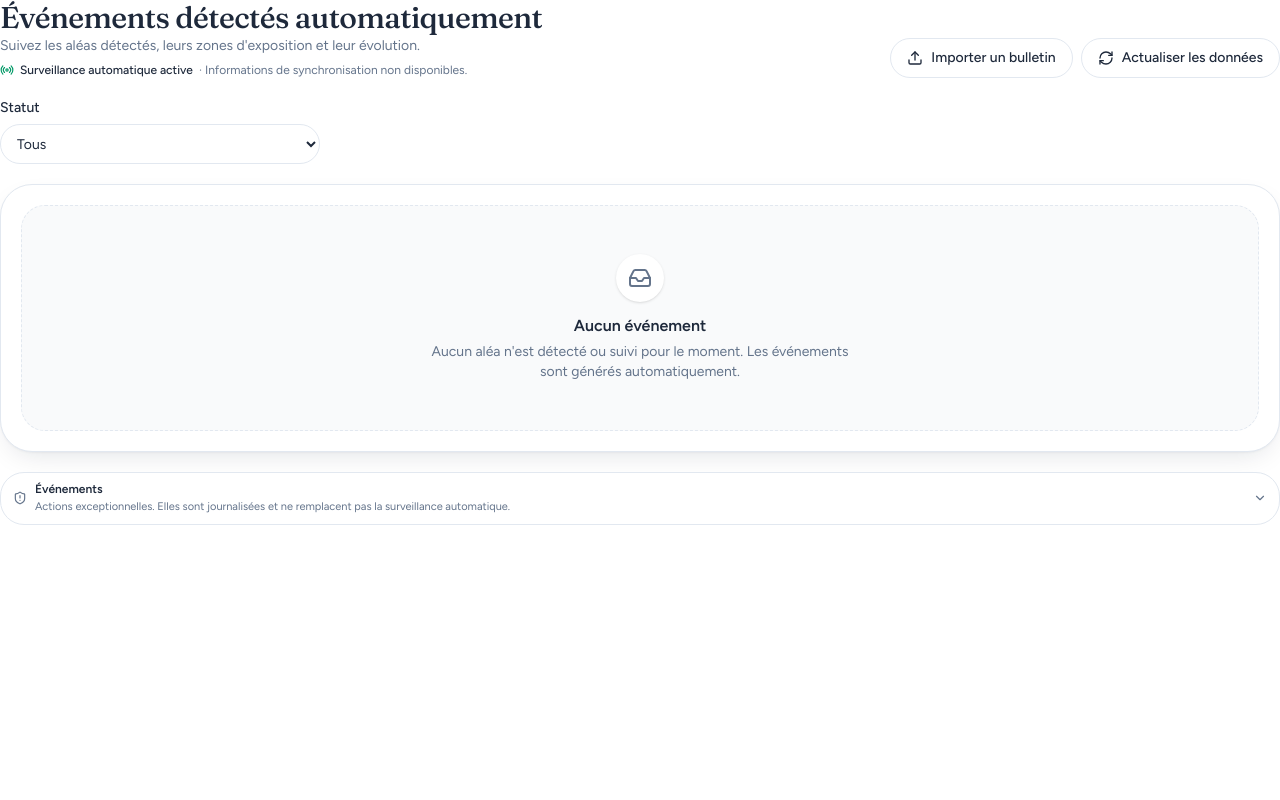
Test: EvenementsPage — import d’un bulletin d’événement › ouvre la modale d’import depuis la page Événements
Click the button "Importer un bulletin" at coordinates (981, 58), box [890,38,1073,78]
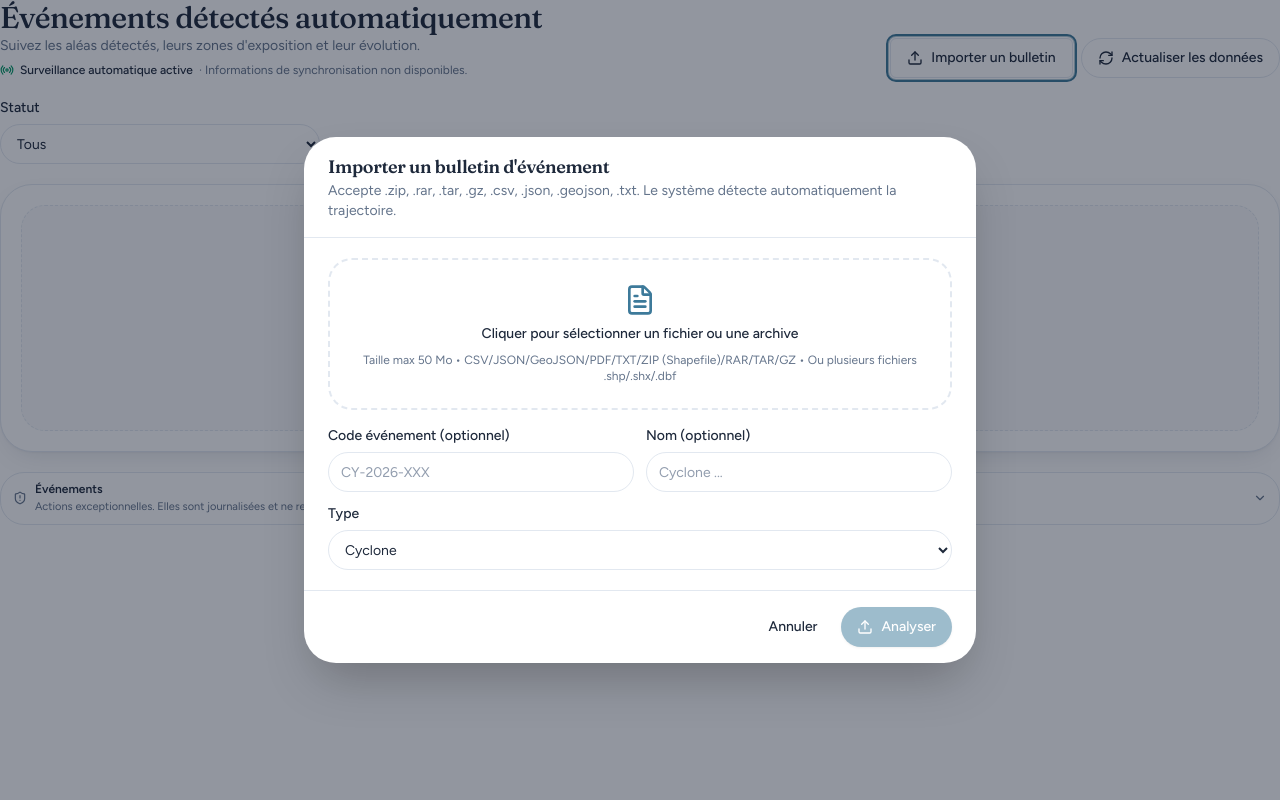
expect the heading "Importer un bulletin d'événement" is shown: met, box [328,155,609,178]
